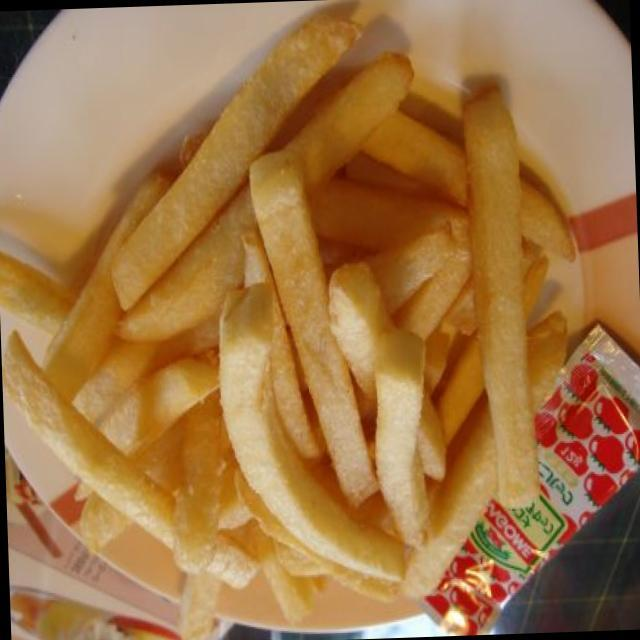French Fries: (31, 60, 538, 609)
